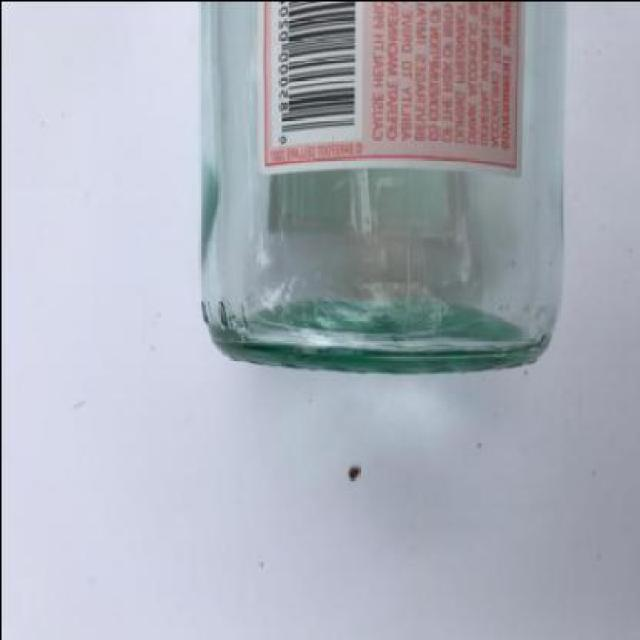glass: (197, 2, 561, 369)
